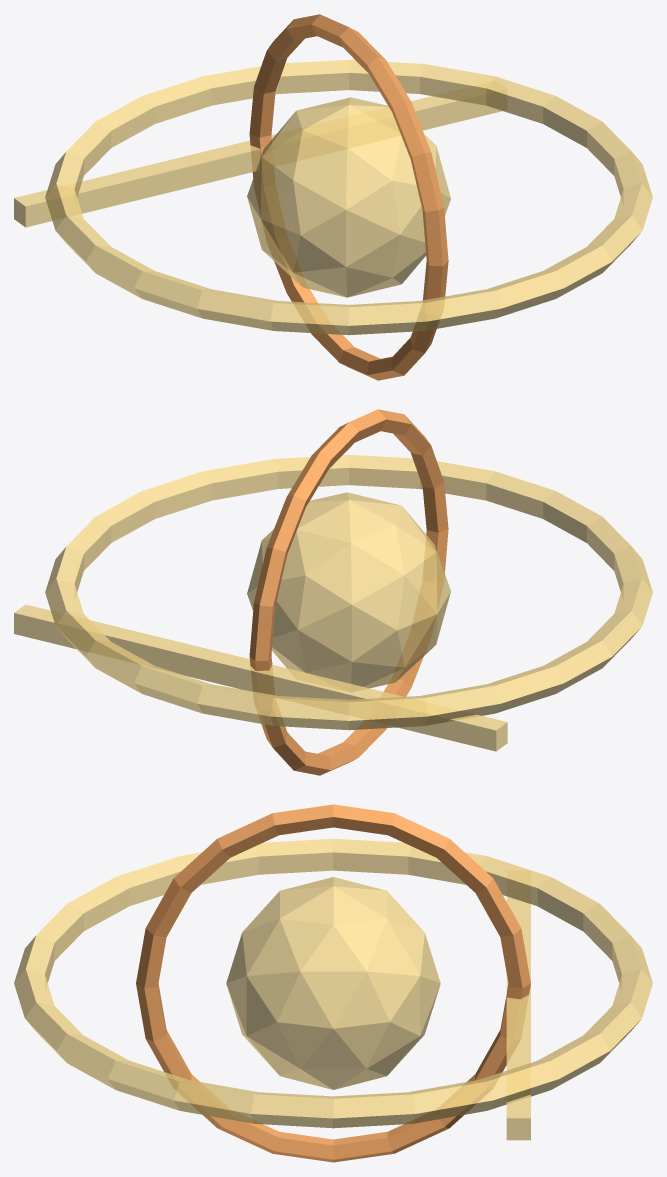
The model's file is 05_emissive_glow_overlay_5.glb.
The picture shows the model from 3 angles, top to bottom: view 1: azimuth 30°, elevation 25°; view 2: azimuth 150°, elevation 25°; view 3: azimuth 270°, elevation 25°; orthographic projection. The views are drawn at different scales.
Parts seen in each view (by area): view 1: emissive_outer_ring, glow_core, emissive_inner_ring, emissive_strip; view 2: emissive_outer_ring, glow_core, emissive_inner_ring, emissive_strip; view 3: emissive_outer_ring, glow_core, emissive_inner_ring, emissive_strip.
Boxes of the visible parts, bbox=[...] form: emissive_outer_ring: bbox=[45, 59, 652, 335]; glow_core: bbox=[247, 97, 450, 297]; emissive_inner_ring: bbox=[249, 14, 448, 380]; emissive_strip: bbox=[14, 96, 502, 227]; emissive_outer_ring: bbox=[45, 454, 652, 730]; glow_core: bbox=[247, 492, 450, 688]; emissive_inner_ring: bbox=[249, 409, 448, 775]; emissive_strip: bbox=[14, 604, 507, 751]; emissive_outer_ring: bbox=[14, 838, 652, 1128]; glow_core: bbox=[226, 877, 440, 1089]; emissive_inner_ring: bbox=[136, 804, 530, 1162]; emissive_strip: bbox=[506, 896, 530, 1140].
Bounding box in the file's own units: 1.31 × 0.81 × 1.31.
